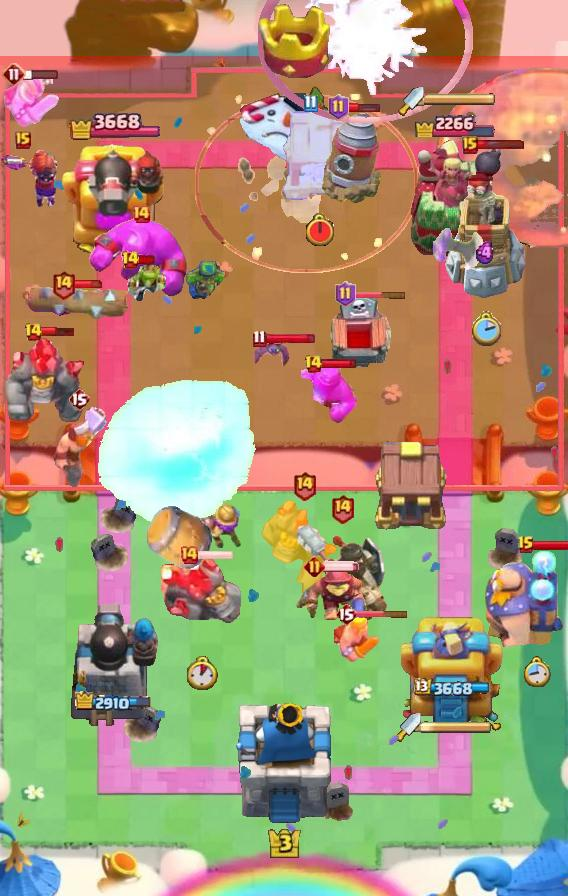archer: (334, 618, 382, 662)
bar: (401, 611, 505, 731), (409, 138, 497, 256)
barbarian-barrel: (252, 342, 292, 368)
barbarian-evolution: (258, 0, 473, 124)
bomb: (280, 107, 360, 201), (372, 438, 452, 532)
bomb-tower: (190, 492, 242, 550)
cannoneer-tower: (260, 495, 348, 601), (161, 558, 243, 652), (2, 337, 88, 425)
clone: (87, 217, 195, 299)
dirt: (145, 502, 215, 572)
electro-spirit: (475, 241, 498, 265)
elixir: (304, 212, 336, 247), (471, 310, 501, 345), (187, 656, 217, 690), (523, 657, 551, 687)
elixir-golem-mid: (324, 292, 394, 378)
emote: (264, 331, 315, 344), (475, 138, 525, 149), (353, 289, 407, 299), (355, 609, 409, 619), (322, 560, 360, 572), (322, 358, 359, 370), (198, 549, 235, 561), (23, 68, 59, 80), (532, 539, 568, 551), (346, 103, 382, 114), (40, 327, 76, 338), (73, 279, 105, 289), (138, 254, 157, 266)
fireball: (292, 565, 368, 627)
giant-snowball: (182, 261, 224, 301)
goblin-giant: (0, 73, 60, 129)
guard: (194, 94, 417, 273)
inferno-dragon: (294, 522, 390, 624)
king-tower: (235, 703, 333, 826)
king-tower-bar: (424, 93, 496, 107), (421, 720, 493, 734)
little-prince: (480, 549, 568, 649)
magic-archer: (321, 110, 381, 204)
mega-knight: (93, 379, 259, 529)
mighty-miner: (51, 404, 107, 490)
minion: (27, 282, 130, 320)
phoenix-egg: (436, 67, 568, 248)
royal-giant: (433, 226, 485, 276)
selected: (68, 109, 159, 145), (413, 109, 496, 137), (75, 690, 153, 714), (414, 678, 492, 698)
tesla-evolution: (0, 146, 62, 208)
text: (51, 268, 76, 299), (291, 471, 316, 502), (330, 492, 355, 523), (2, 62, 26, 86), (335, 281, 357, 307), (327, 94, 348, 120), (68, 387, 90, 411), (335, 602, 357, 626), (304, 555, 325, 576), (131, 204, 151, 224), (304, 354, 324, 374), (179, 545, 199, 565), (120, 250, 139, 270), (24, 322, 43, 342), (517, 535, 535, 555), (15, 131, 31, 149), (462, 136, 478, 154), (303, 94, 318, 113), (252, 329, 267, 347)
tornado: (301, 366, 357, 424)
tower-bar: (60, 138, 168, 256), (69, 599, 159, 731)
zap: (125, 261, 167, 305)
zappy: (443, 142, 530, 300)
